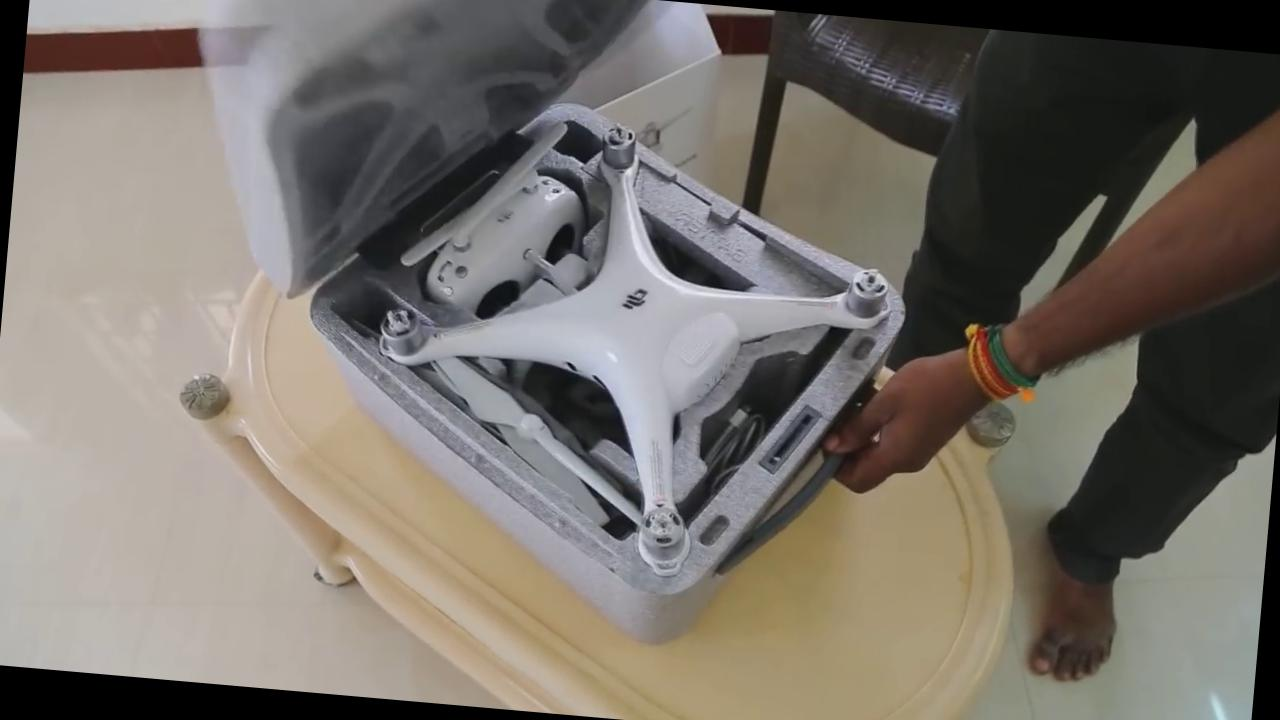drone: (346, 103, 918, 602)
